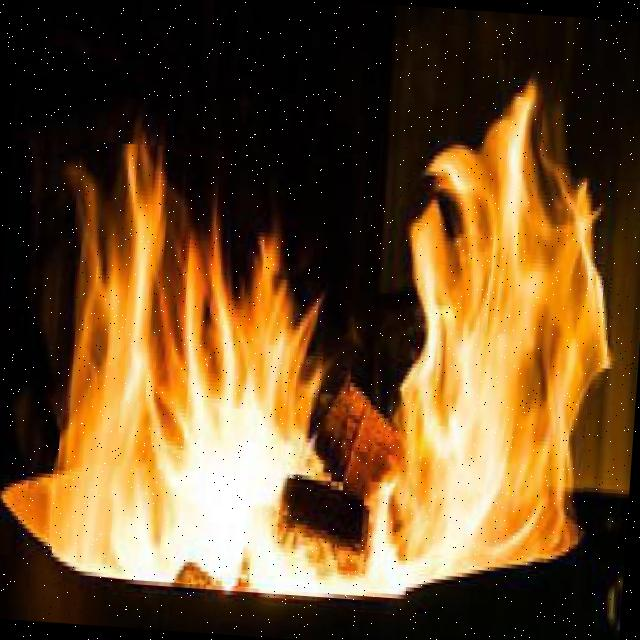fire: (49, 140, 366, 593), (358, 70, 611, 594)
